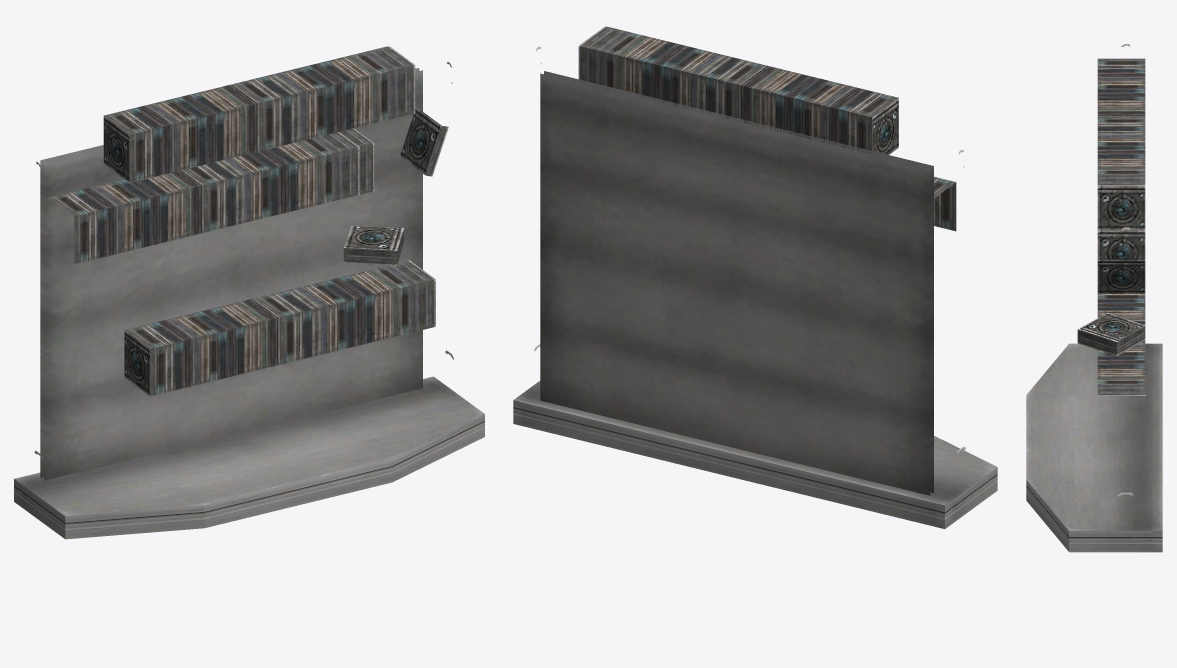
The model's file is frn_all_mdrn_bookcase_s01_l1.fbx.
The picture shows the model from 3 angles, left to right: view 1: azimuth 30°, elevation 25°; view 2: azimuth 150°, elevation 25°; view 3: azimuth 270°, elevation 25°; orthographic projection. The views are drawn at different scales.
Parts seen in each view (by area): view 1: mesh_node; view 2: mesh_node; view 3: mesh_node.
Part boxes in pixels (left/top/right/bottom): mesh_node: left=14, top=46, right=484, bottom=539; mesh_node: left=513, top=26, right=997, bottom=528; mesh_node: left=1026, top=44, right=1162, bottom=552.
Bounding box in the file's own units: 1.5 × 1.8 × 0.4615.
